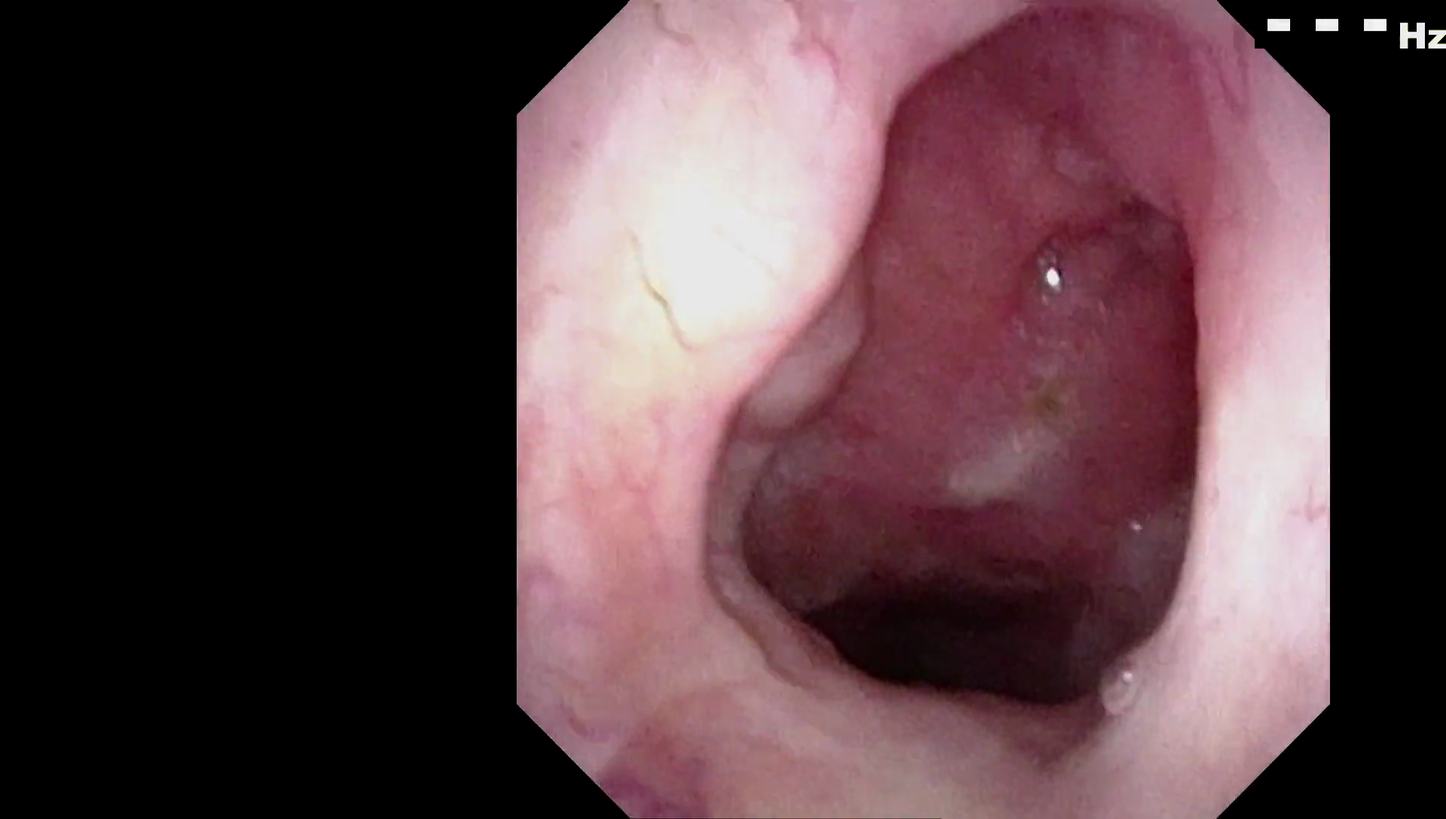close_wall: (574, 81, 898, 418)
next: (767, 504, 1138, 735)
